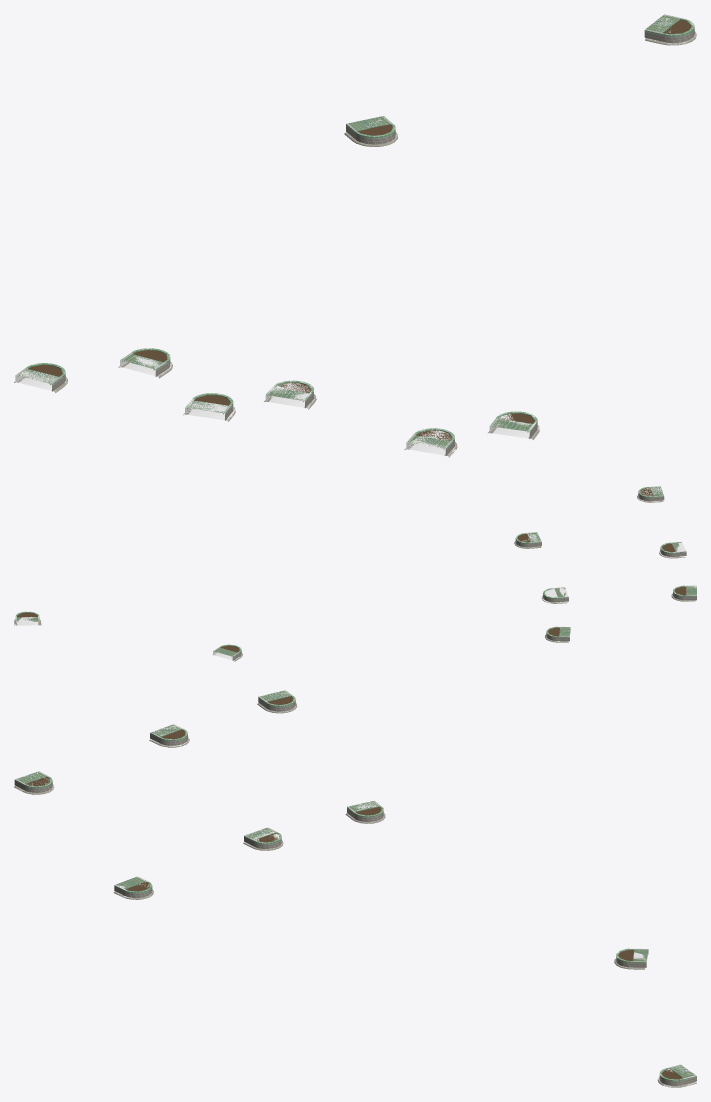
The model's file is objects_un_t07planter01.gltf.
The picture shows the model from 3 angles, top to bottom: view 1: azimuth 30°, elevation 25°; view 2: azimuth 150°, elevation 25°; view 3: azimuth 270°, elevation 25°; orthographic projection. The views are drawn at different scales.
Visible parts, largest first — view 1: um_objects_un_t07planter_model_lod0Shape:objects_un_t07plant (×3); view 2: um_objects_un_t07planter_model_lod0Shape:objects_un_t07plant (×3); view 3: um_objects_un_t07planter_model_lod0Shape:objects_un_t07plant (×3).
Boxes of the visible parts, x1,y1,x2,y2 form: um_objects_un_t07planter_model_lod0Shape:objects_un_t07plant (×3): (14, 14, 696, 457); um_objects_un_t07planter_model_lod0Shape:objects_un_t07plant (×3): (14, 486, 696, 661); um_objects_un_t07planter_model_lod0Shape:objects_un_t07plant (×3): (14, 690, 696, 1087).
Bounding box in the file's own units: 79.05 × 6.28 × 67.09.
3 materials, 2 textured.
